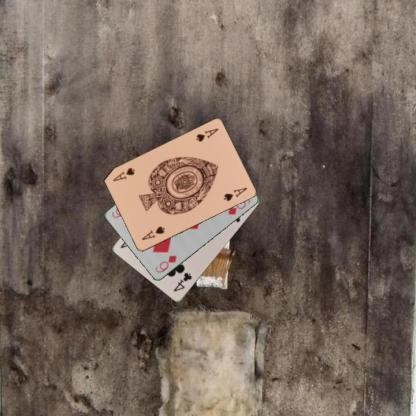4c: (170, 270, 194, 293)
6d: (152, 253, 178, 275)
As: (138, 223, 166, 242), (194, 126, 220, 144)
